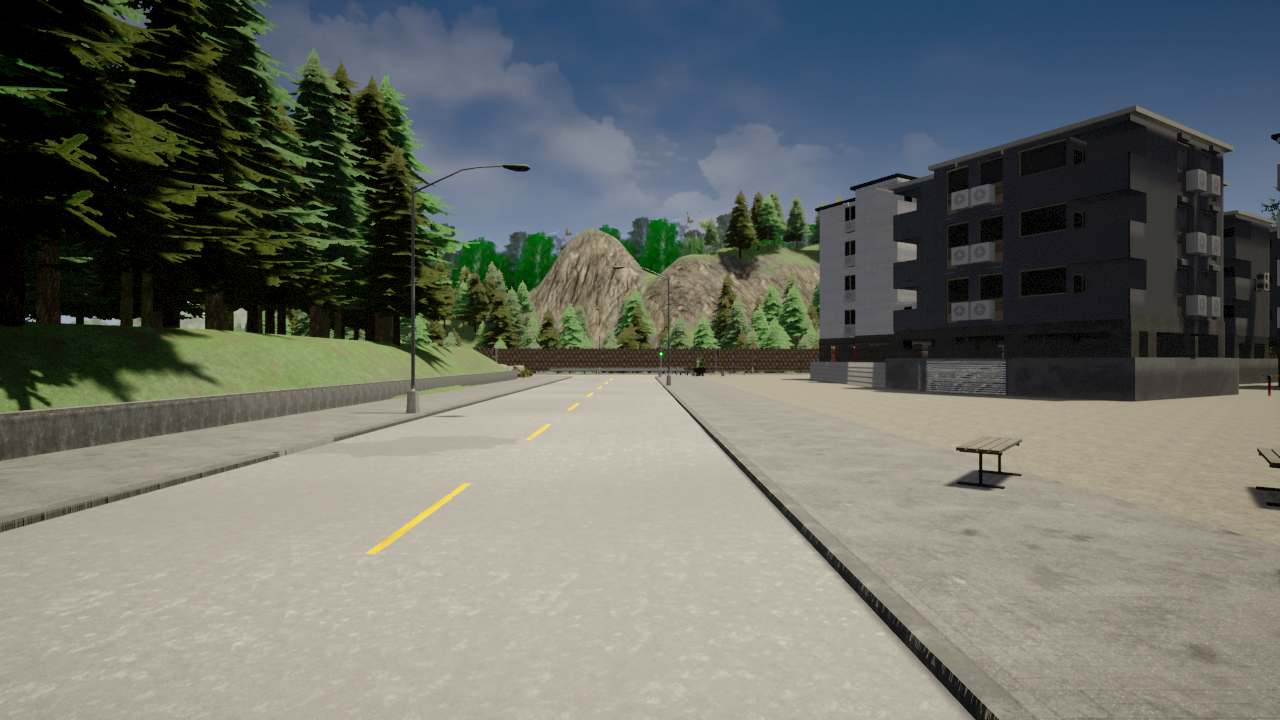green: (658, 345, 663, 357)
